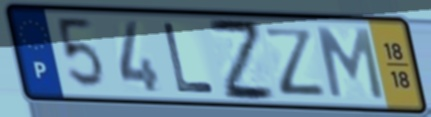4: (115, 18, 163, 94)
5: (51, 16, 109, 94)
L: (159, 20, 219, 96)
M: (313, 25, 387, 103)
Z: (204, 15, 280, 103), (260, 25, 329, 98)
